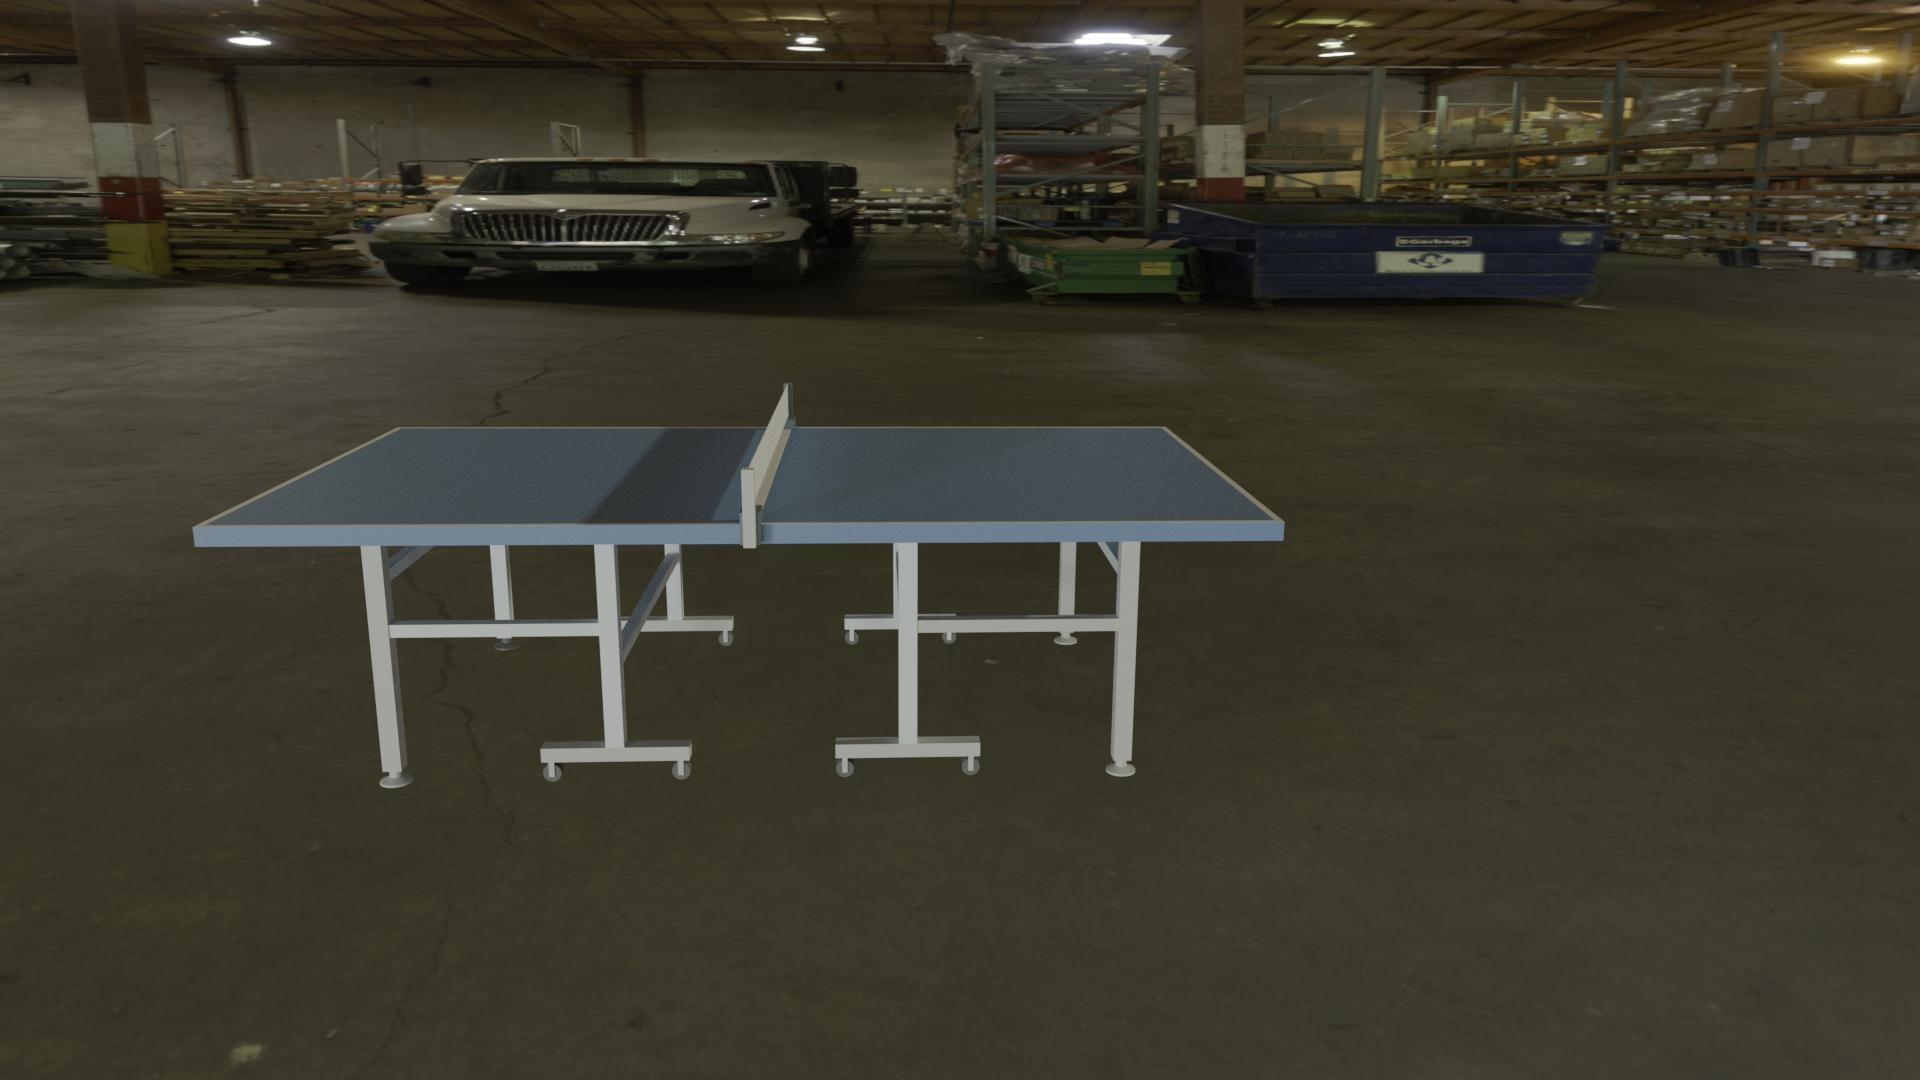table: (204, 427, 1275, 525)
